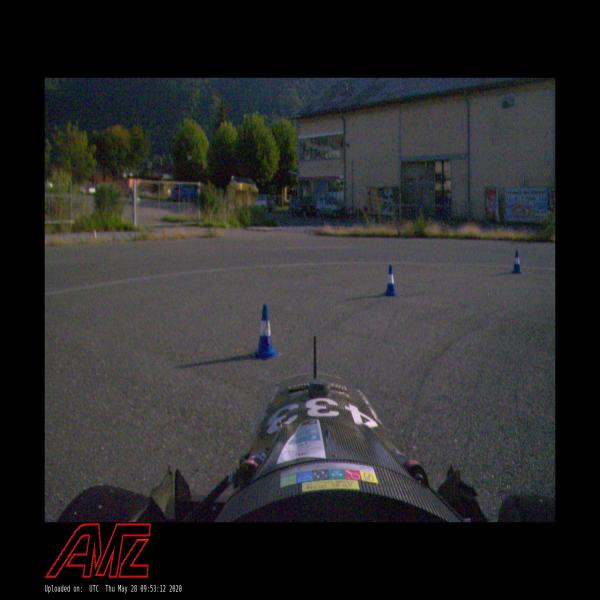blue_cone: (253, 304, 277, 358), (384, 264, 397, 297), (512, 250, 522, 274)
